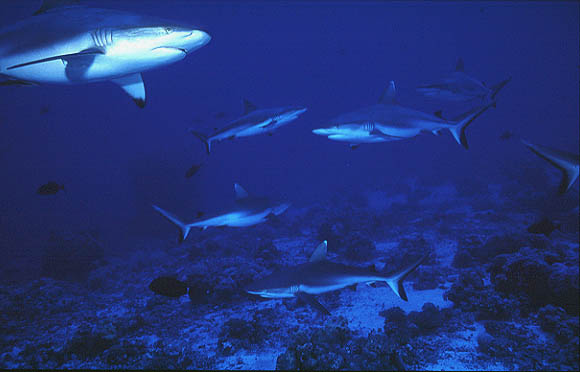Carcharhinus_amblyrhynchos: (1, 1, 216, 106), (239, 238, 430, 308), (311, 89, 484, 152), (143, 179, 301, 246), (187, 90, 310, 155)
